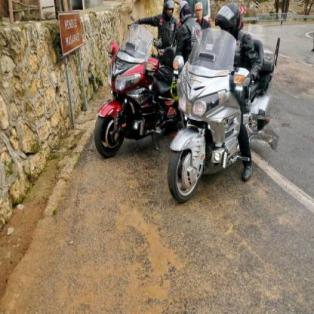Motocicleta: (164, 37, 284, 204), (88, 13, 190, 156)
